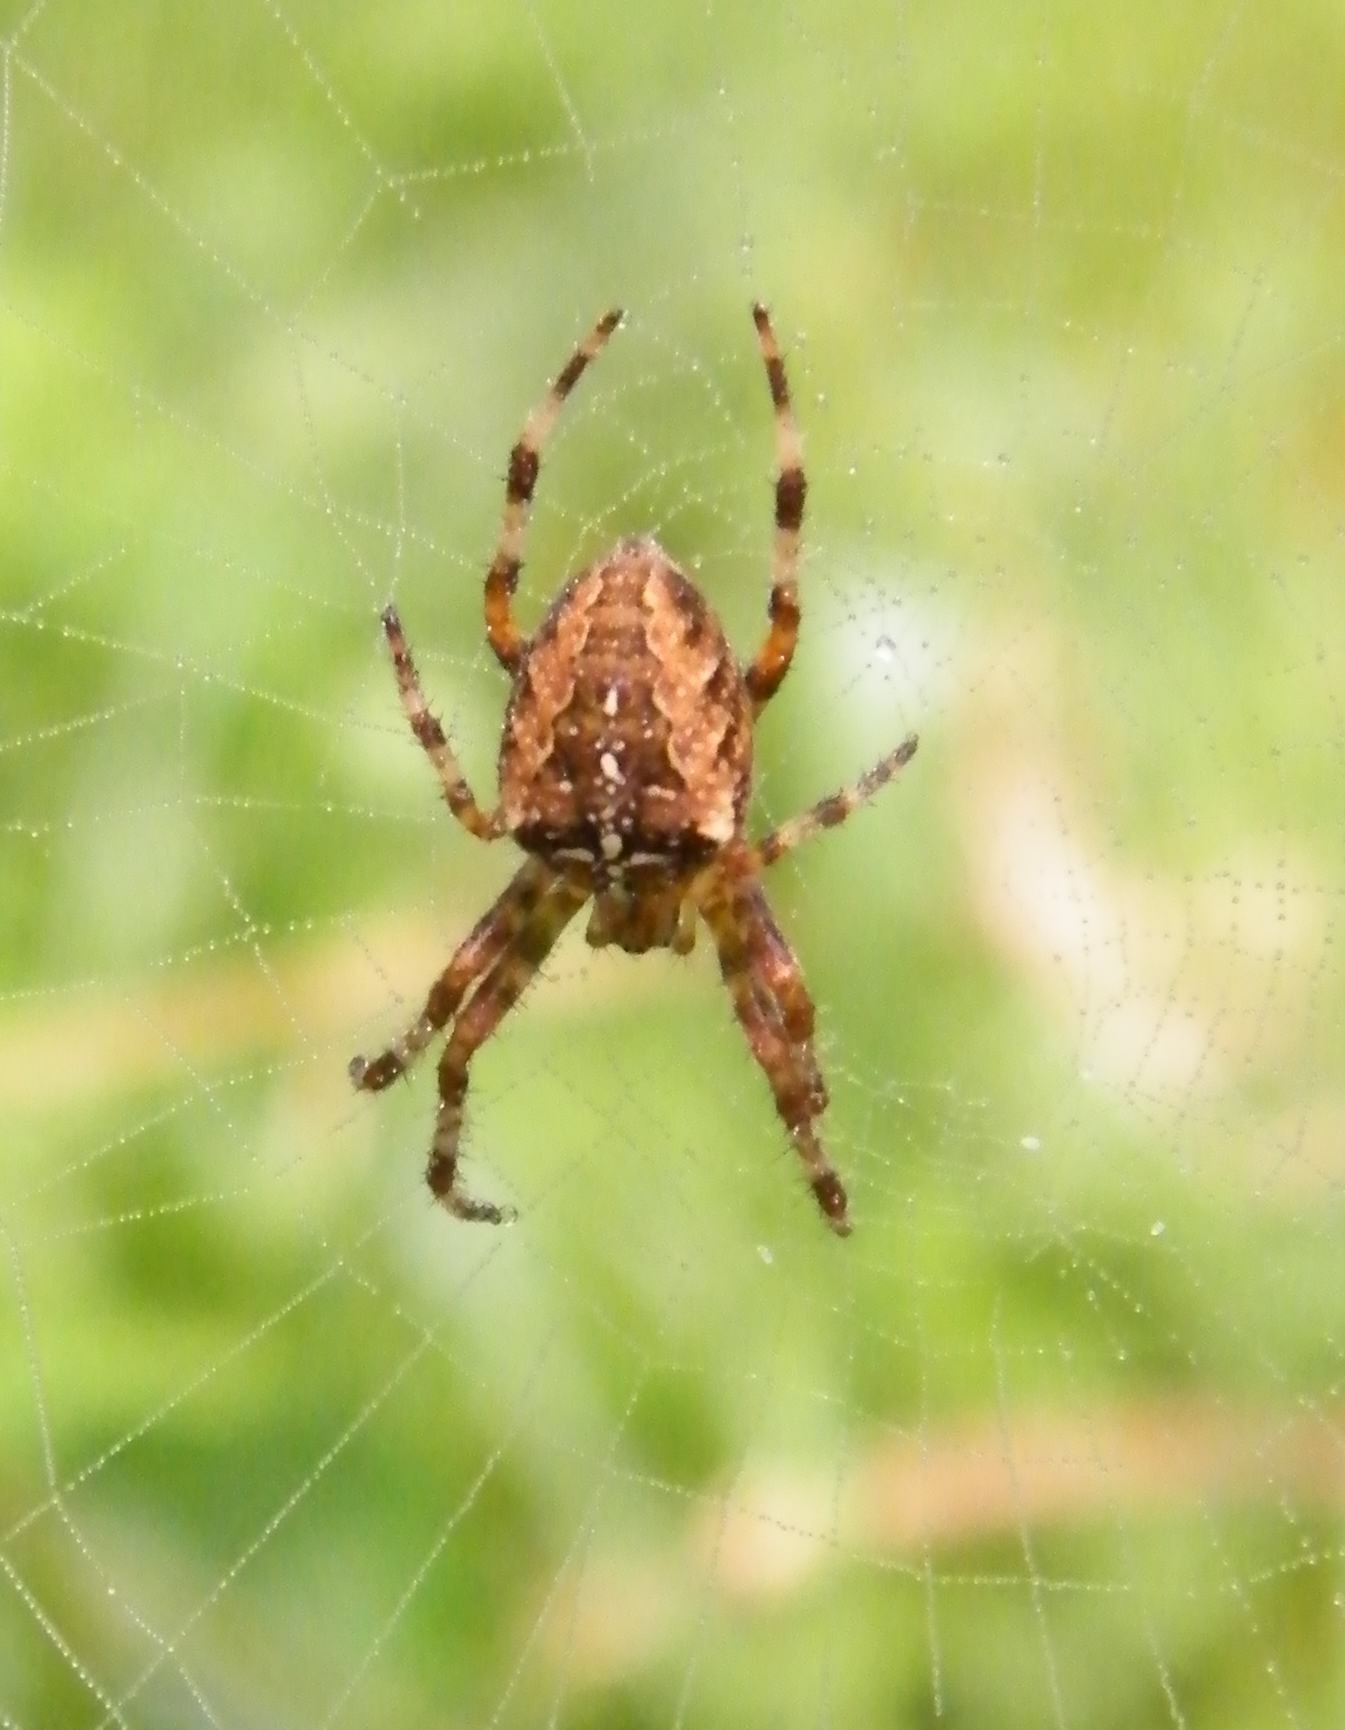spider: (313, 230, 945, 1275)
